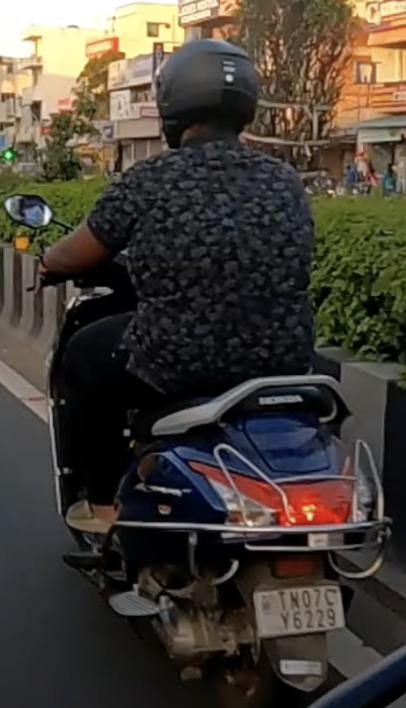motor: (33, 239, 384, 697)
number: (252, 588, 347, 637)
with helmet: (153, 38, 256, 144)
